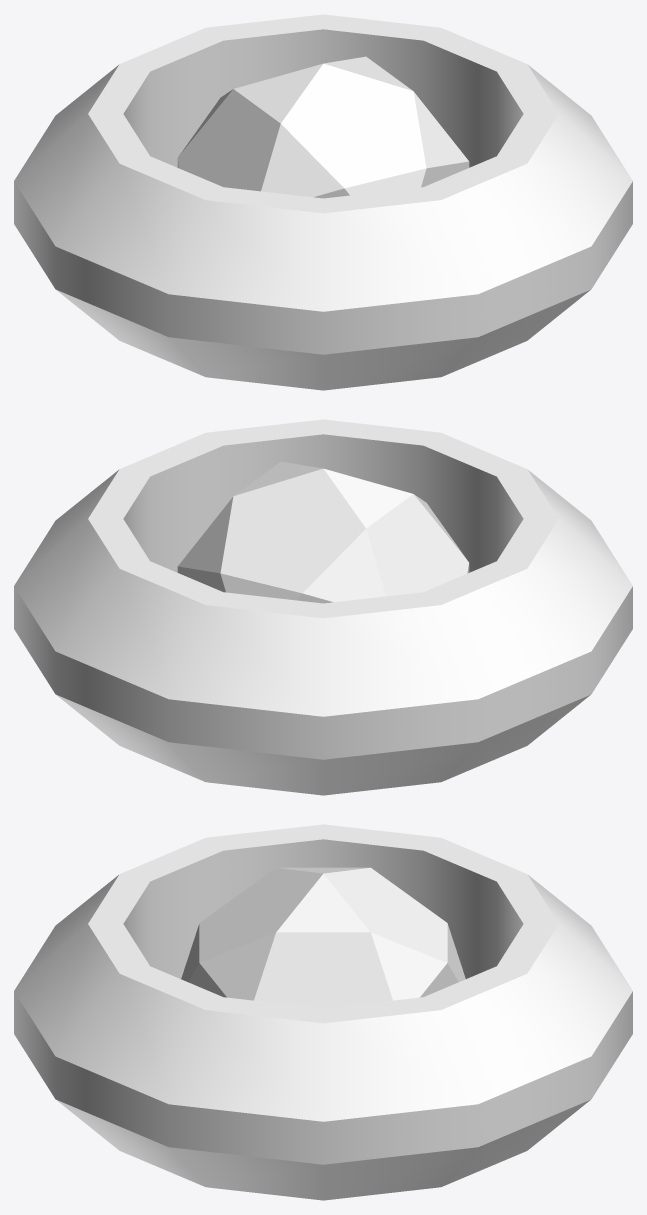
Rendered from LifePowerUp.obj.
3 renders of one model, top to bottom at view 1: azimuth 30°, elevation 25°; view 2: azimuth 150°, elevation 25°; view 3: azimuth 270°, elevation 25°, orthographic.
Parts seen in each view (by area): view 1: lifePowerUp; view 2: lifePowerUp; view 3: lifePowerUp.
Part boxes in pixels (x1=…): lifePowerUp: x1=14, y1=14, x2=632, y2=390; lifePowerUp: x1=14, y1=419, x2=632, y2=795; lifePowerUp: x1=14, y1=824, x2=632, y2=1200.
Size of the model in its own units: 2.89 by 1.43 by 2.89.
